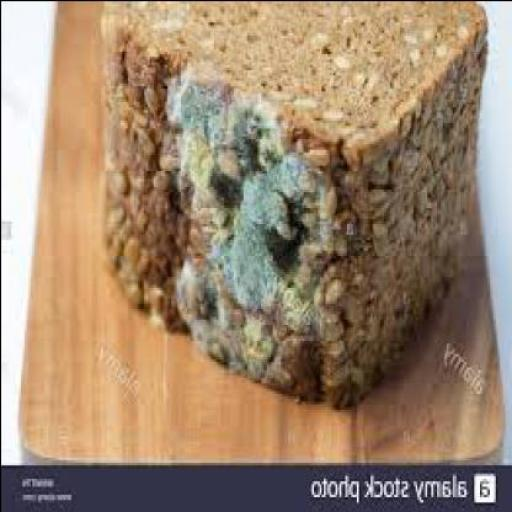biodegradable: (102, 0, 489, 404)
